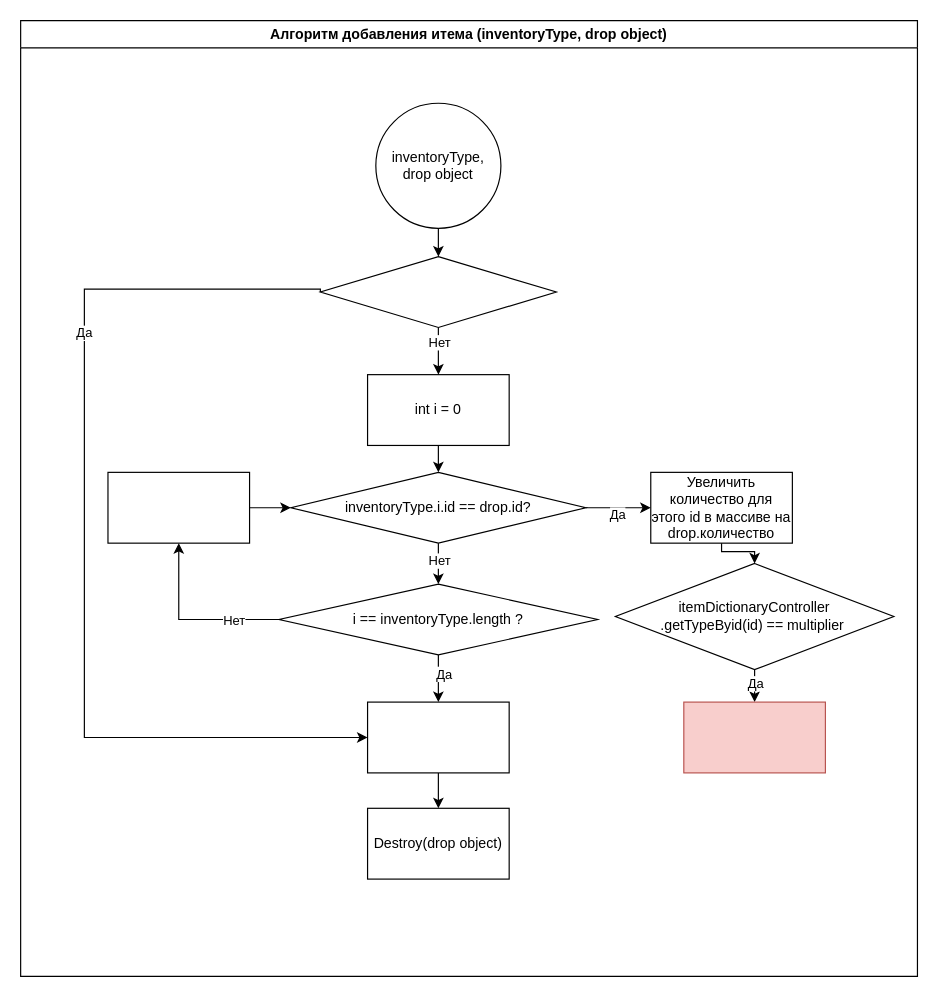
Image size: 938x997. Some labels were removed from this diagram. Each missing label, with the centre of its shape:
"i++" goes at pixel 178 507.
"inventoryType.lengh == 0 ?" goes at pixel 437 291.
"Алгоритм пересчета статов" goes at pixel 754 737.
"Добавить id предмета в inventoryType" goes at pixel 437 737.
